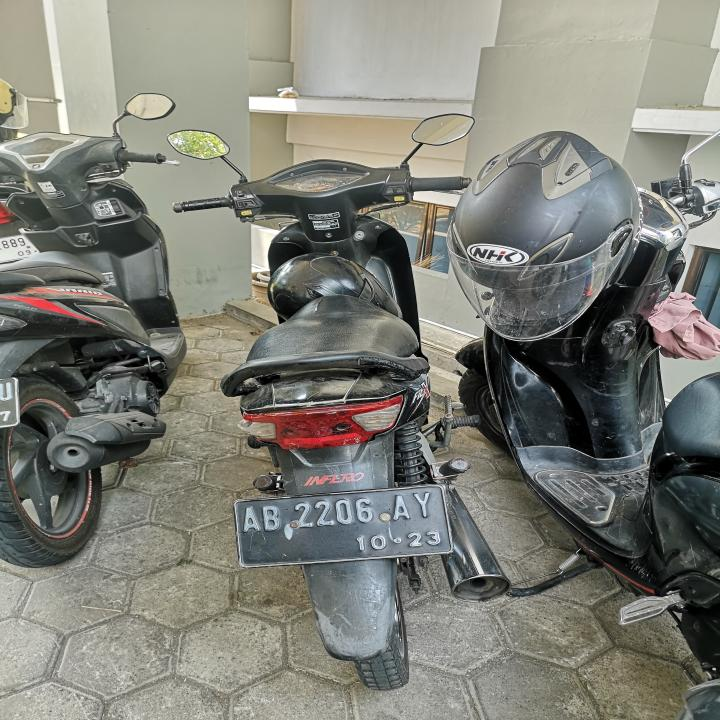plate: (230, 480, 459, 571)
